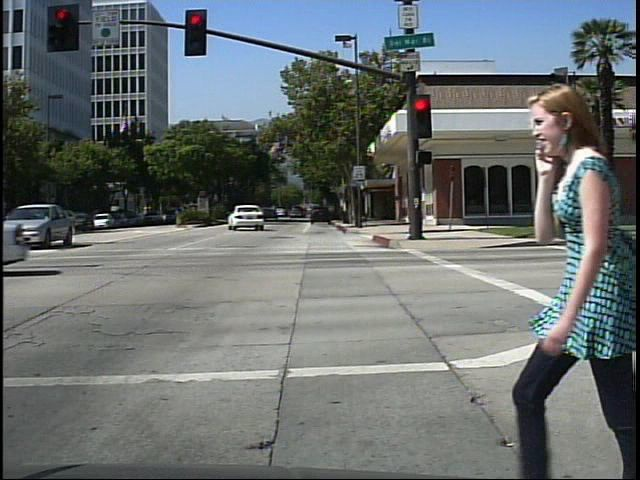person: (515, 70, 633, 480)
